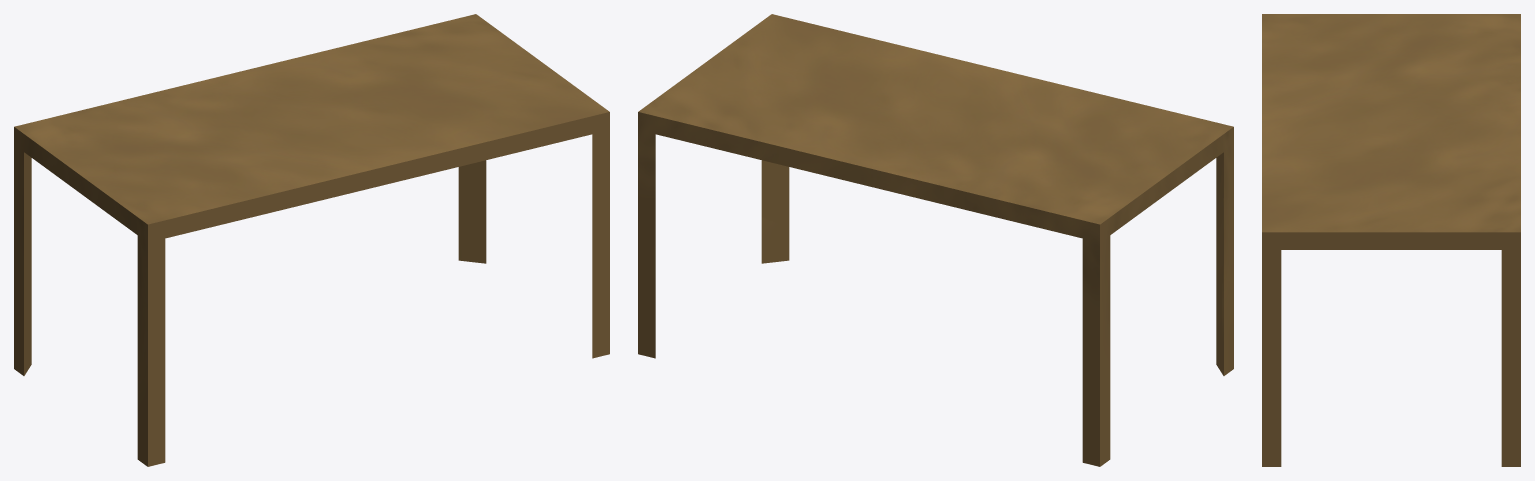
The model's file is table.gltf.
3 renders of one model, left to right at view 1: azimuth 30°, elevation 25°; view 2: azimuth 150°, elevation 25°; view 3: azimuth 270°, elevation 25°, orthographic. The views are drawn at different scales.
Visible parts, largest first — view 1: Cube; view 2: Cube; view 3: Cube.
Boxes of the visible parts, <box> form: Cube: <box>14,14,609,466</box>; Cube: <box>638,14,1233,466</box>; Cube: <box>1262,14,1520,466</box>.
Bounding box in the file's own units: 1.99 × 1 × 1.
1 material, 1 textured.
